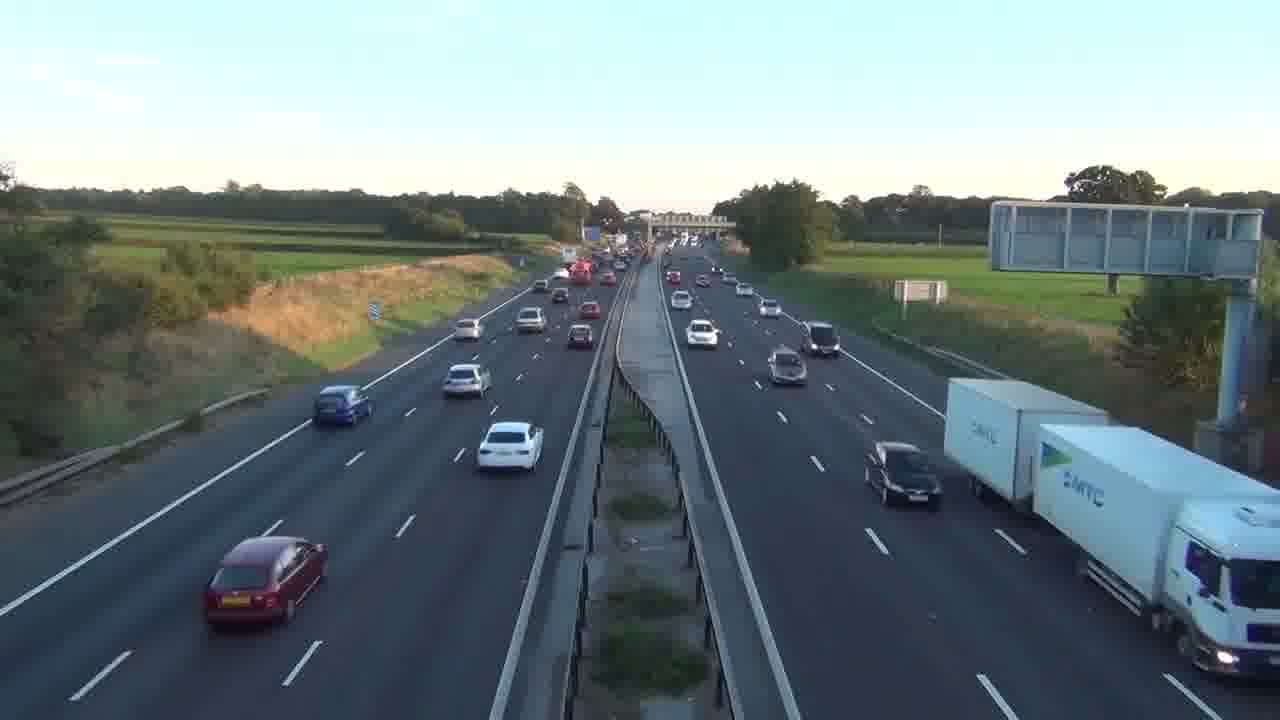car: (202, 535, 328, 628), (314, 384, 373, 426), (766, 345, 808, 387), (441, 363, 487, 399), (686, 318, 721, 350), (514, 305, 546, 334), (567, 323, 595, 350), (671, 290, 693, 310)
truck: (942, 377, 1279, 682), (863, 439, 944, 507)
